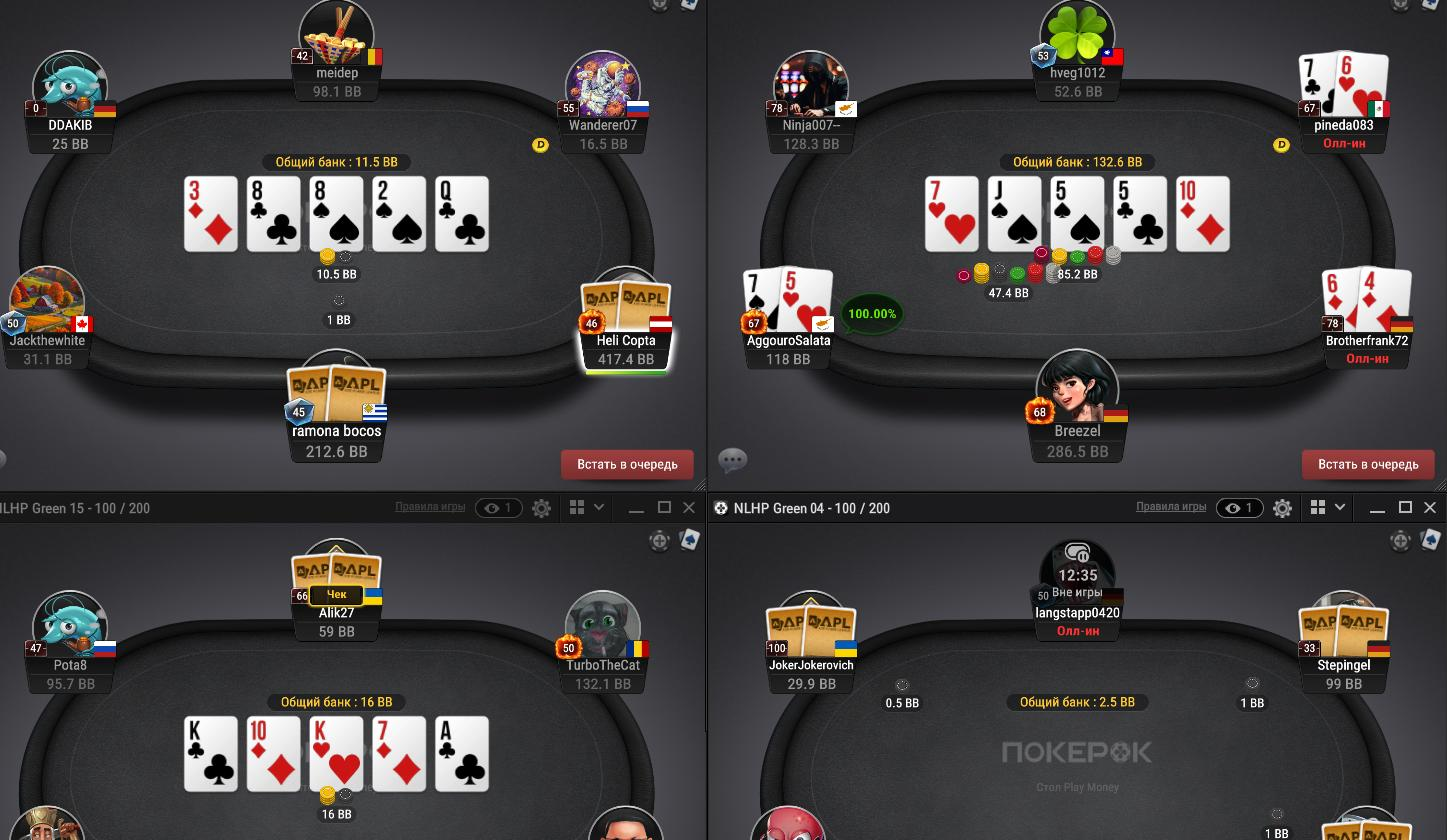10d: (246, 714, 301, 792), (1177, 178, 1228, 251)
2s: (373, 178, 425, 251)
3d: (187, 177, 236, 253)
4d: (1358, 265, 1412, 332)
5c: (1114, 177, 1165, 250)
5h: (781, 266, 833, 333)
5s: (1051, 177, 1105, 251)
6d: (1322, 267, 1360, 333)
6h: (1337, 51, 1390, 119)
7c: (1300, 53, 1336, 114)
7d: (373, 718, 421, 789)
7h: (926, 175, 978, 250)
7s: (741, 266, 782, 332)
8c: (247, 177, 298, 251)
8s: (310, 179, 364, 250)
Ac: (437, 716, 488, 794)
Js: (990, 173, 1043, 251)
Kc: (186, 714, 236, 789)
Kh: (311, 718, 364, 792)
Qc: (434, 175, 489, 252)
